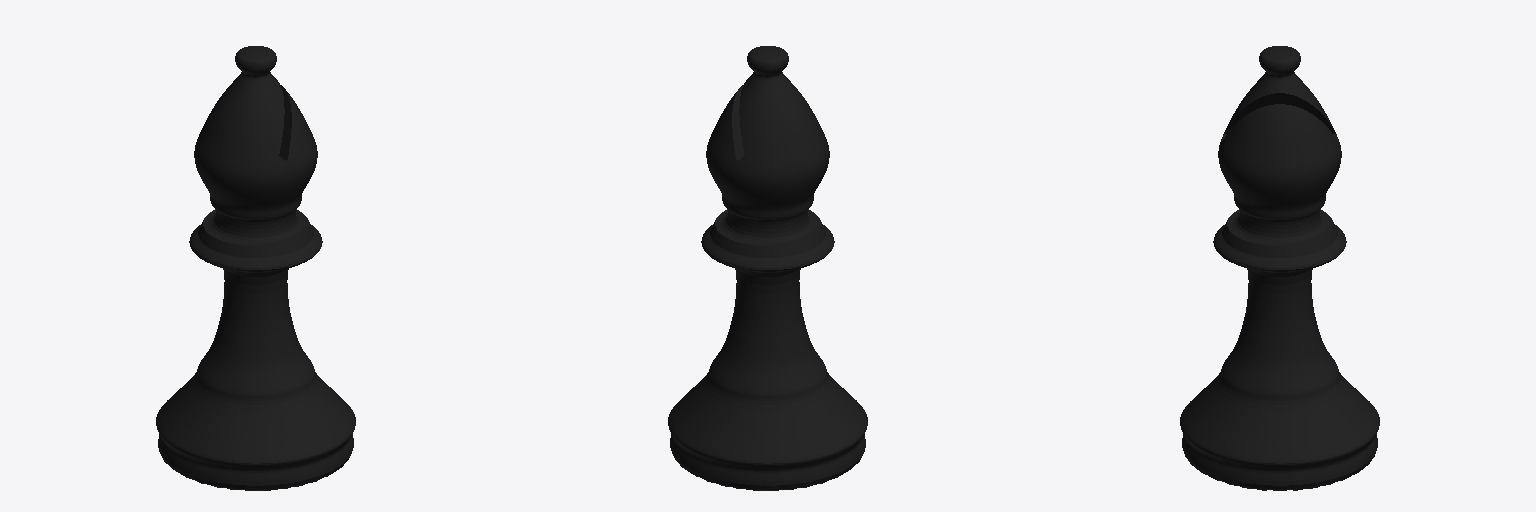
The model's file is bishop2black.obj.
3 renders of one model, left to right at view 1: azimuth 30°, elevation 25°; view 2: azimuth 150°, elevation 25°; view 3: azimuth 270°, elevation 25°, orthographic.
Parts seen in each view (by area): view 1: Cylinder; view 2: Cylinder; view 3: Cylinder.
Part boxes in pixels (bbox=[...]): Cylinder: bbox=[156, 46, 355, 490]; Cylinder: bbox=[668, 46, 867, 490]; Cylinder: bbox=[1180, 46, 1379, 490].
Bounding box in the file's own units: 2.02 × 4.58 × 2.02.